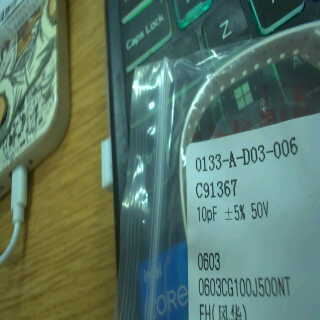10pF: (194, 201, 218, 226)
